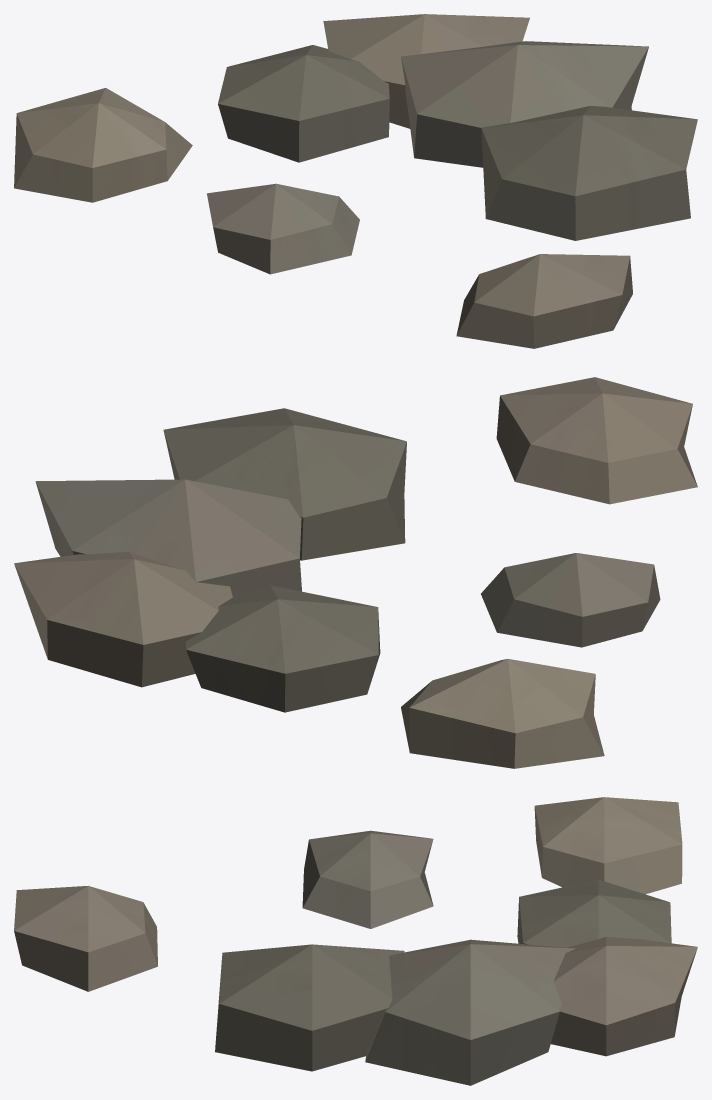
File: pebbles_01.glb
The picture shows the model from 3 angles, top to bottom: view 1: azimuth 30°, elevation 25°; view 2: azimuth 150°, elevation 25°; view 3: azimuth 270°, elevation 25°; orthographic projection. The views are drawn at different scales.
Parts seen in each view (by area): view 1: pebbles_01; view 2: pebbles_01; view 3: pebbles_01.
Boxes of the visible parts, box(x1,y1,x2,y2) form: pebbles_01: box(14, 14, 697, 348); pebbles_01: box(14, 377, 697, 768); pebbles_01: box(14, 797, 697, 1085).
Size of the model in its own units: 0.5969 by 0.0963 by 0.6334.
4 materials, 4 textured.
